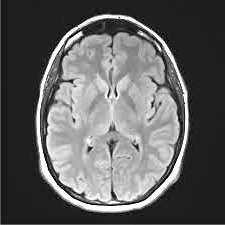Normal_Brain: (26, 3, 225, 225)
